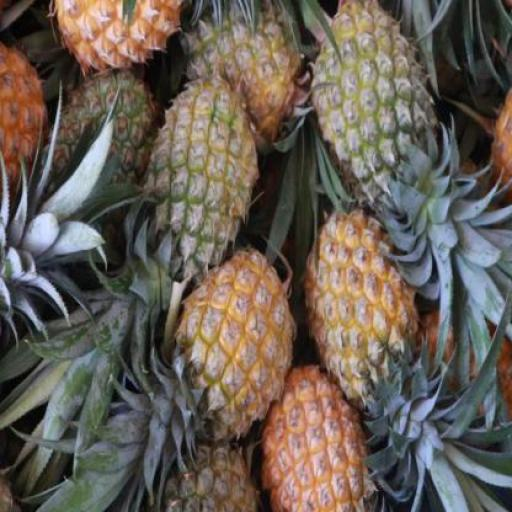------------------------------: (311, 0, 430, 214), (150, 84, 256, 279), (192, 2, 310, 146)
Pineapple - v8 v1: (305, 215, 414, 410), (176, 258, 284, 441), (263, 365, 376, 512)
